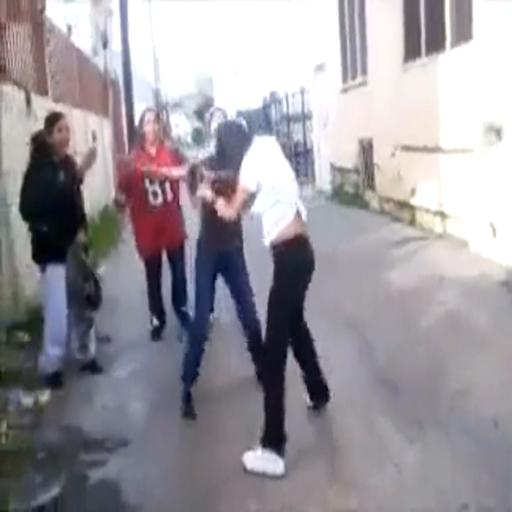violencia: (167, 92, 339, 487)
